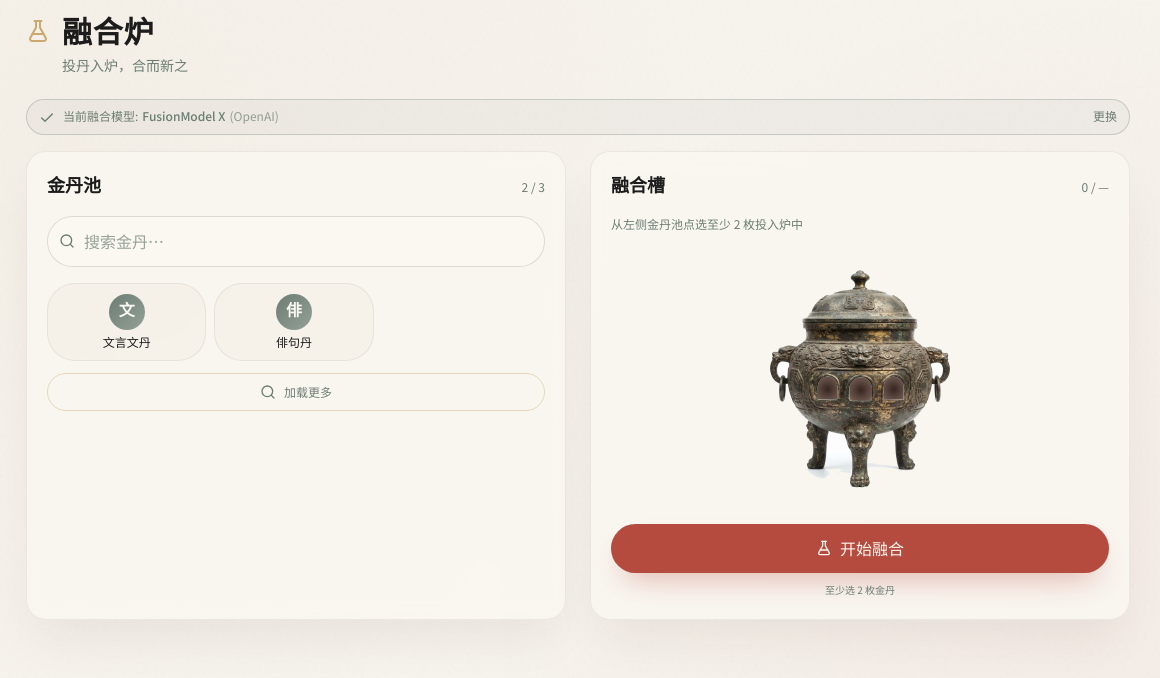
Scenario: FusionPage 融合炉（两阶段：预览不消耗 → 确认原子消耗） › 材料池支持分页：加载更多追加下一页，加载完按钮消失
Expected: the button "文 文言文丹" is shown, [47, 283, 206, 361]
Click the button "加载更多" at (296, 392), box [47, 373, 545, 411]
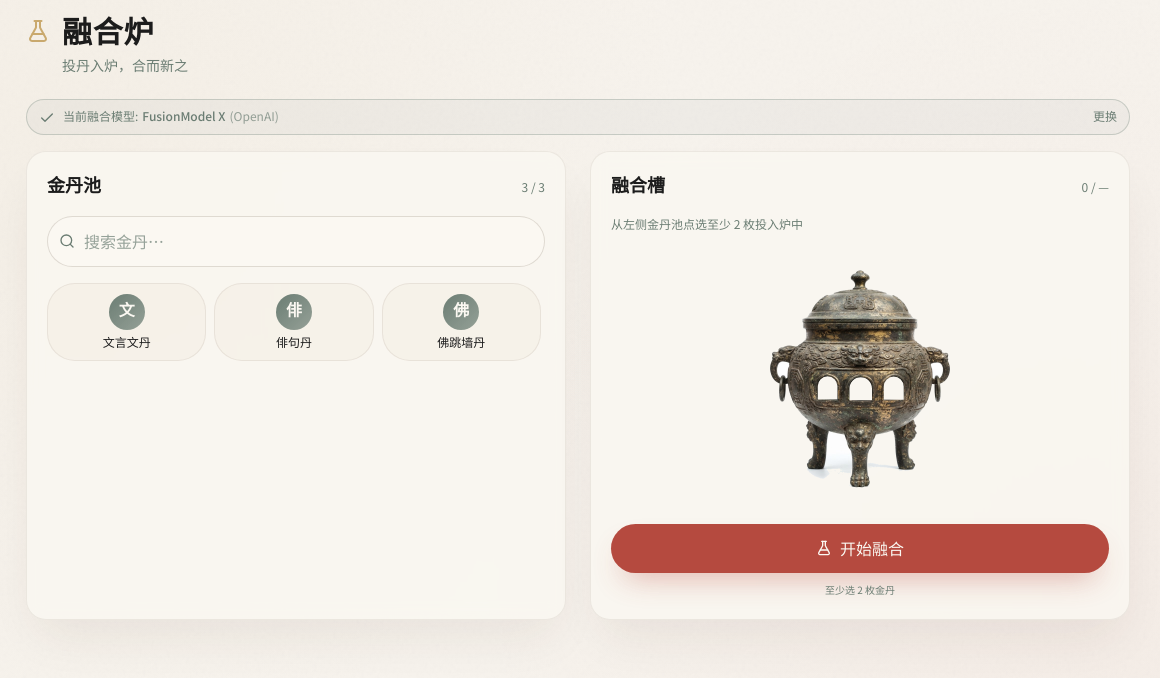
Expected: the button "佛 佛跳墙丹" is shown, [382, 283, 541, 361]
Expected: the button "加载更多" is gone
